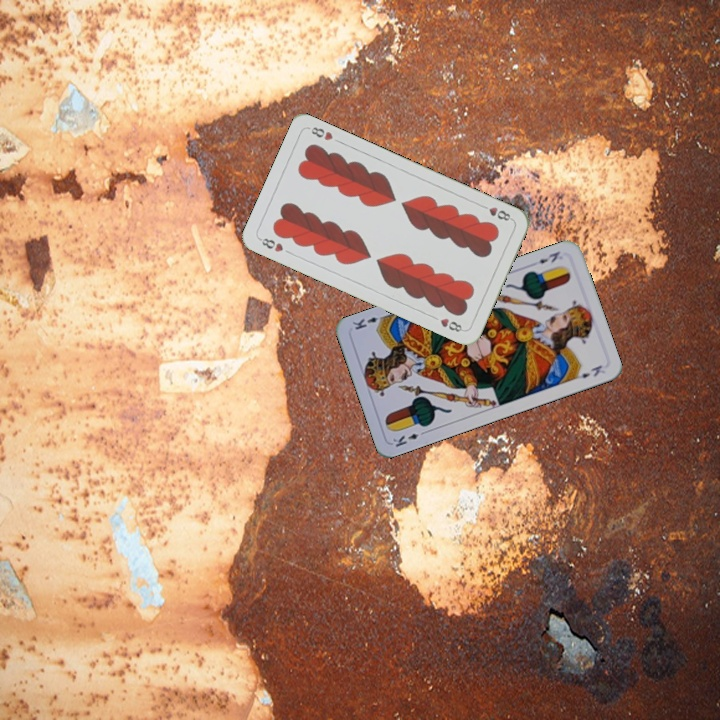EK: (389, 427, 429, 450), (535, 247, 562, 266)
H8: (477, 201, 515, 224), (255, 234, 286, 255)
